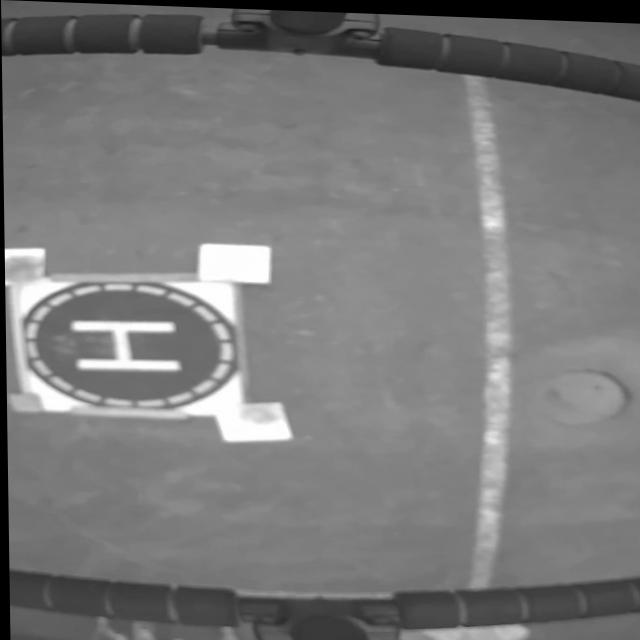Helipad: (69, 320, 182, 370)
